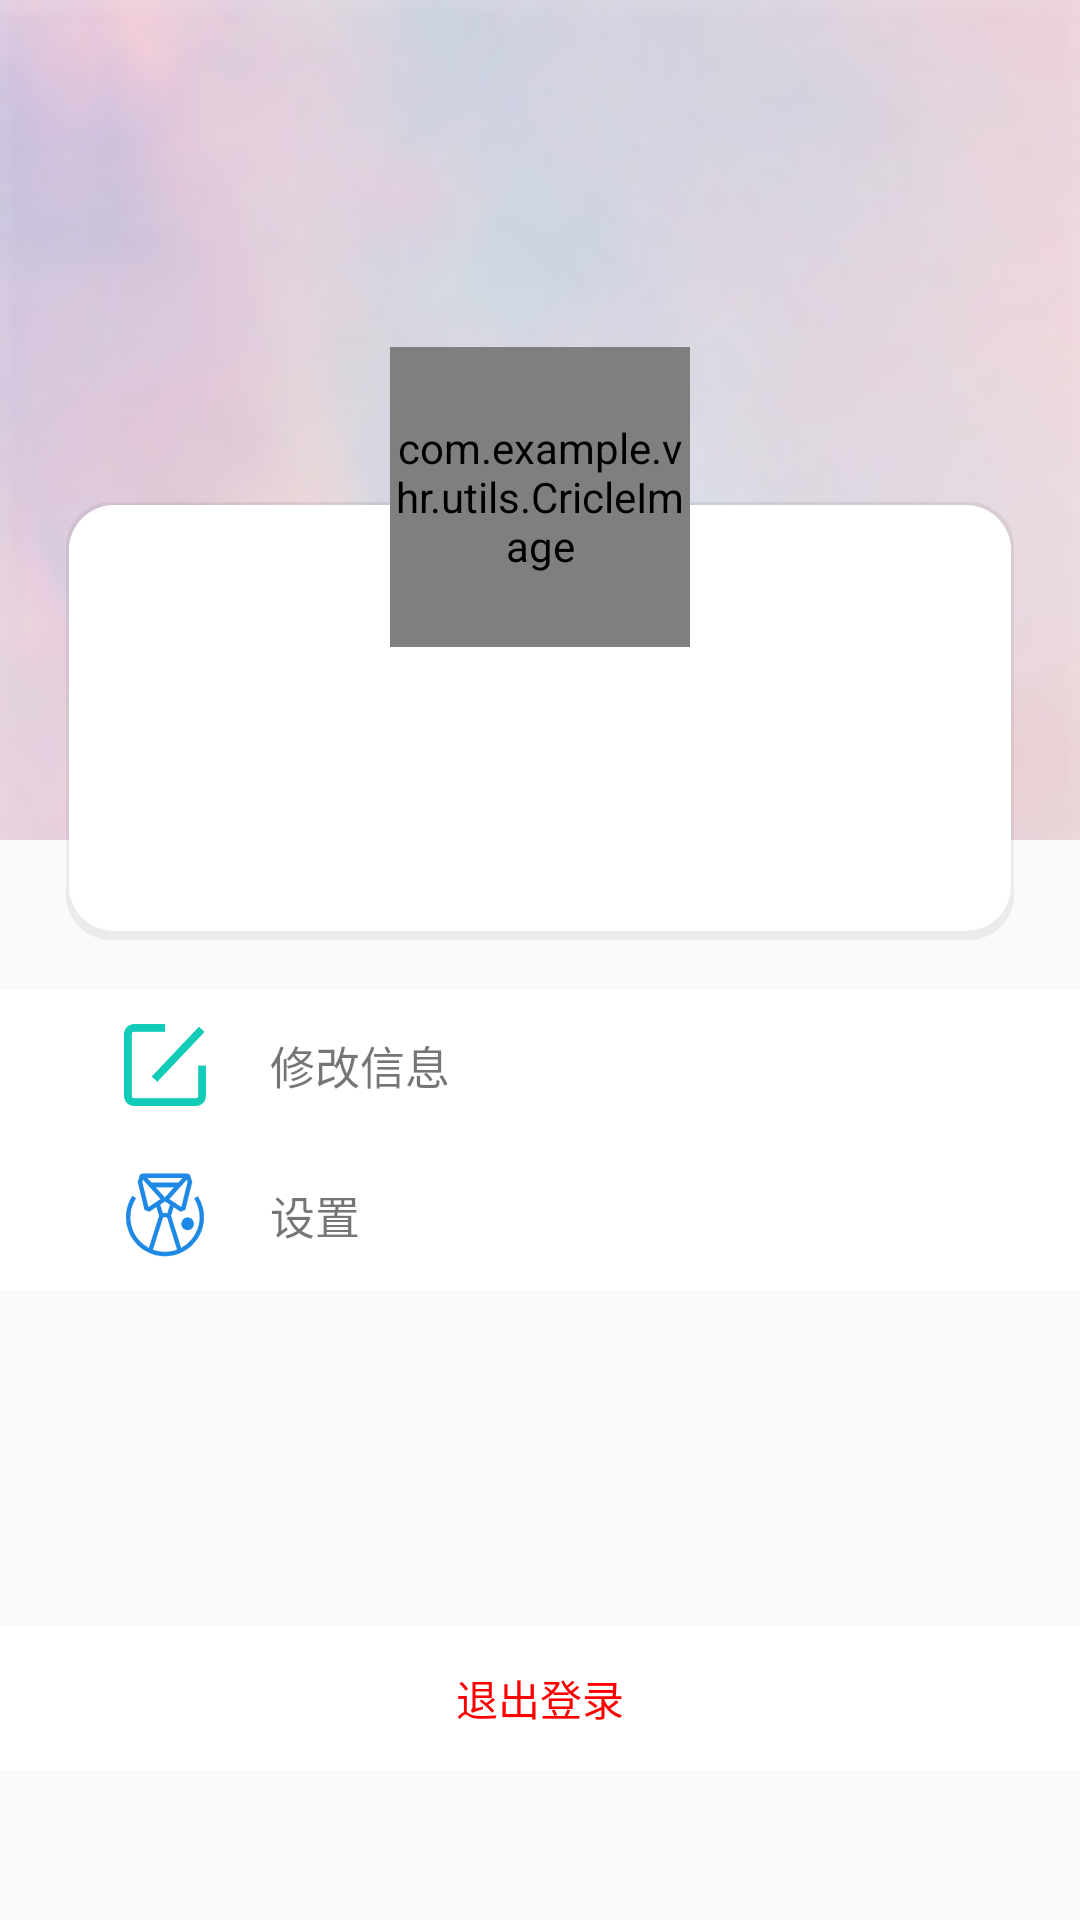

Icon click points for this 1080w x 1920h phone screenshot, format point (x, y):
admin: point (165, 1215)
modify: point (165, 1065)
